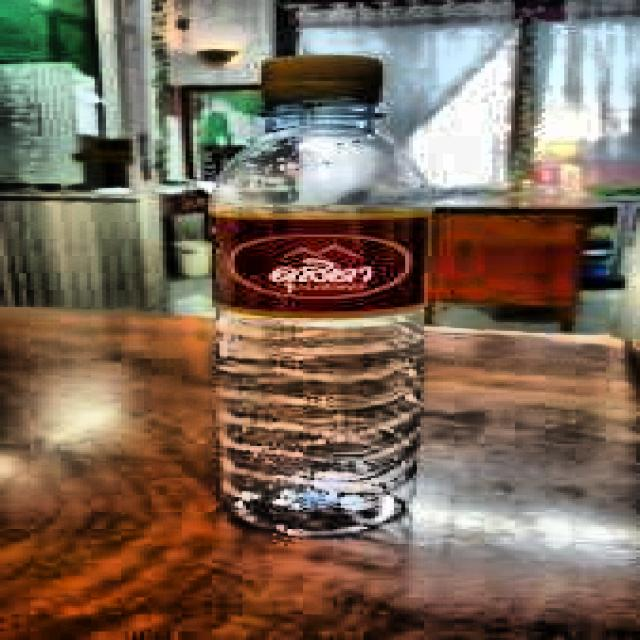Bottles: (132, 47, 480, 544)
